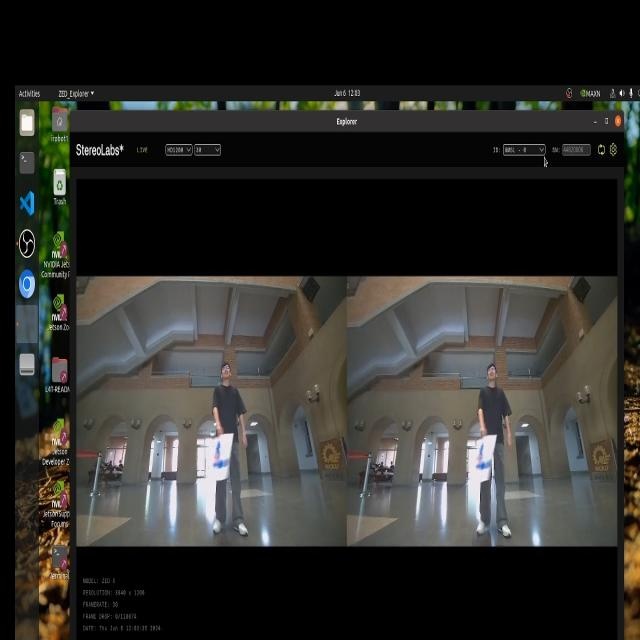blue: (209, 440, 229, 481), (477, 438, 493, 478)
